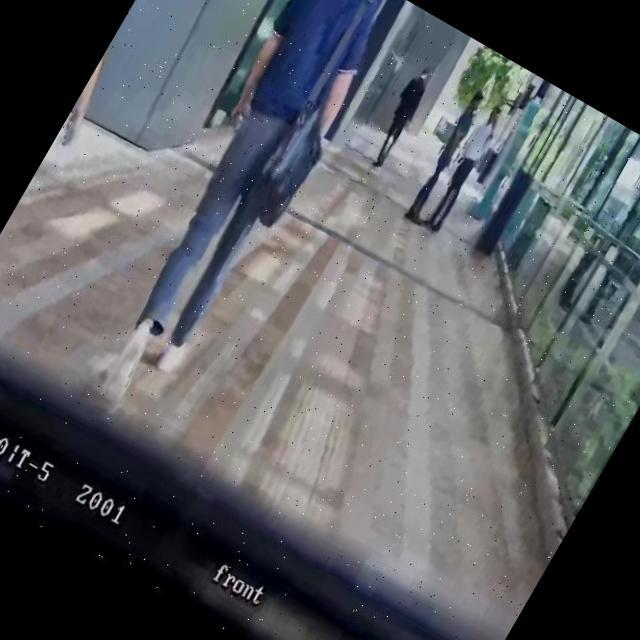person: (86, 0, 408, 399), (0, 0, 161, 339), (418, 100, 510, 236), (402, 91, 490, 225), (362, 62, 439, 172)
